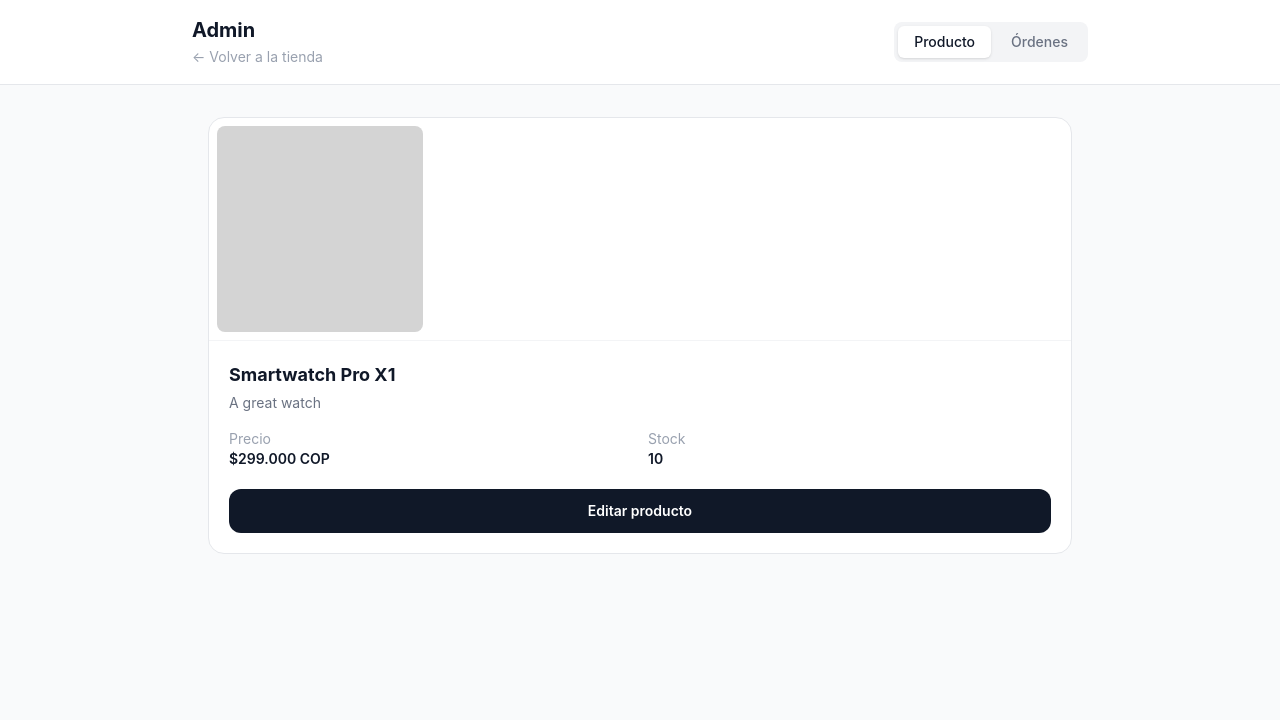
Test: AdminPage › shows "Editar producto" button when product loads and clicking opens modal
Step 1. Click the button "Editar producto" → (640, 510), box [229,488,1051,532]
(page scrolled)
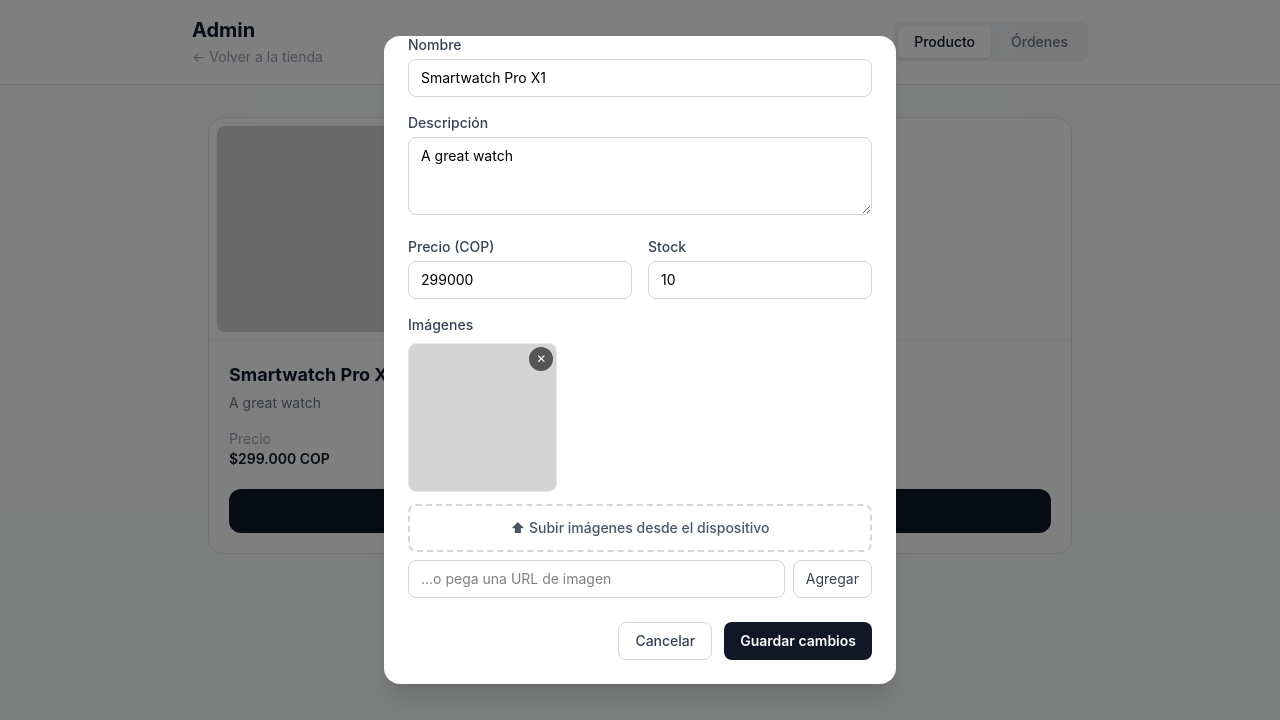
Now the button "Guardar cambios" is shown, box [724,622,872,660]
